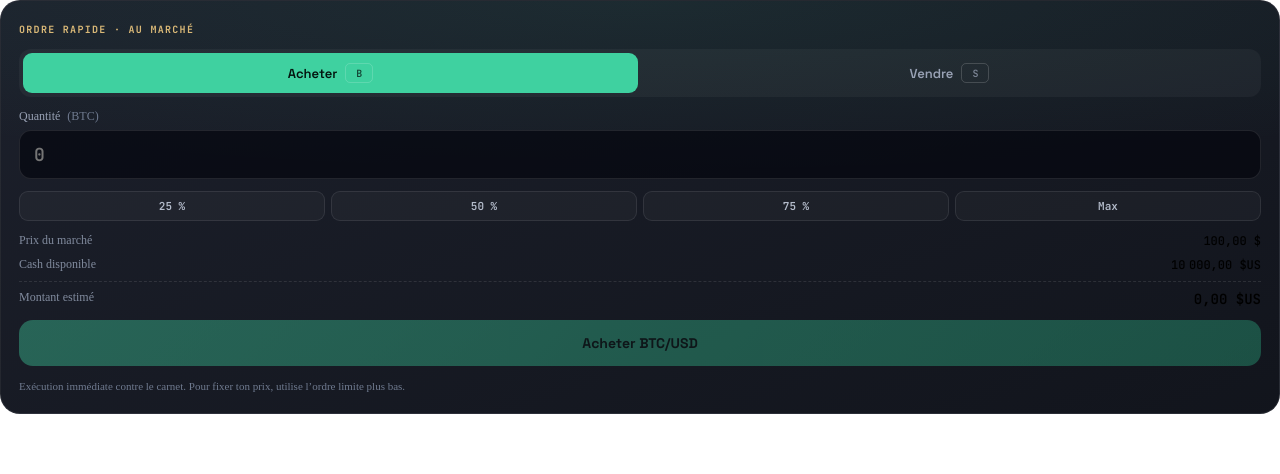
Test: QuickTrade › refuse une vente qui dépasse la position détenue
The image size is (1280, 474).
Click the button "Vendre S".
click(950, 73)  # box [642,53,1257,93]
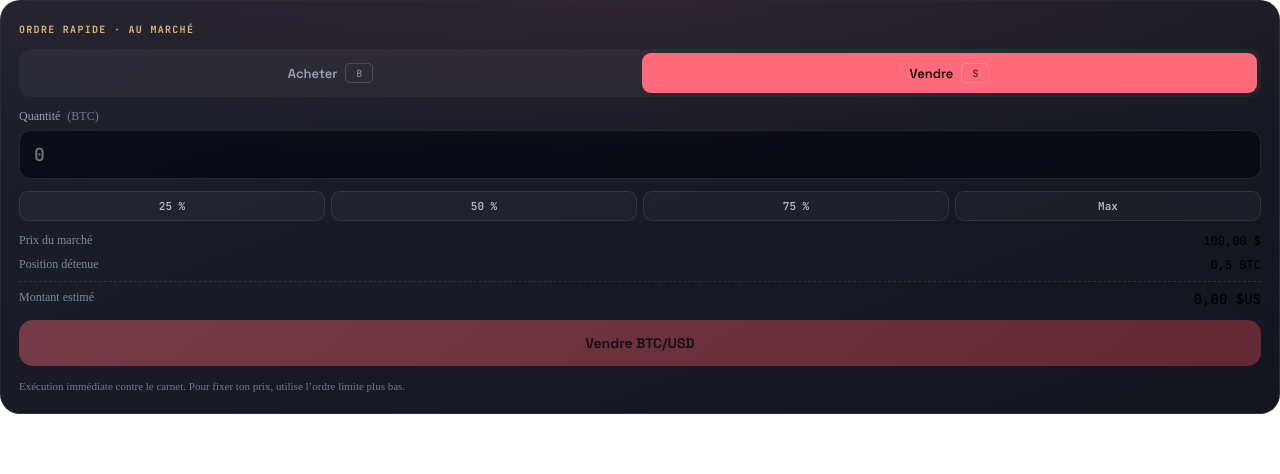
Type "2" into the number field.
click(640, 154); type("2")  # box [19,130,1261,179]
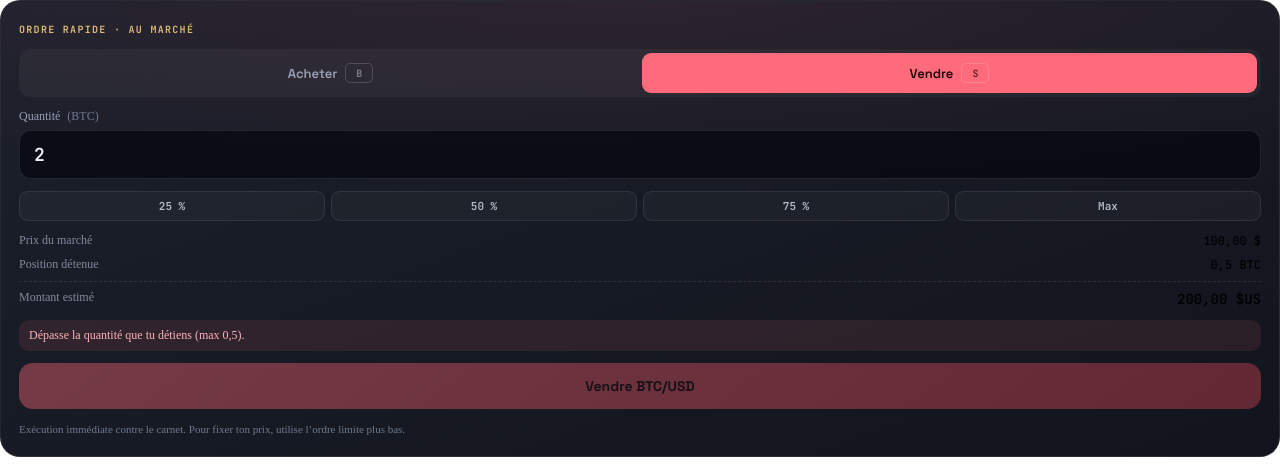
Expected: the message shows "quantité que tu détiens", [29,328,192,342]
